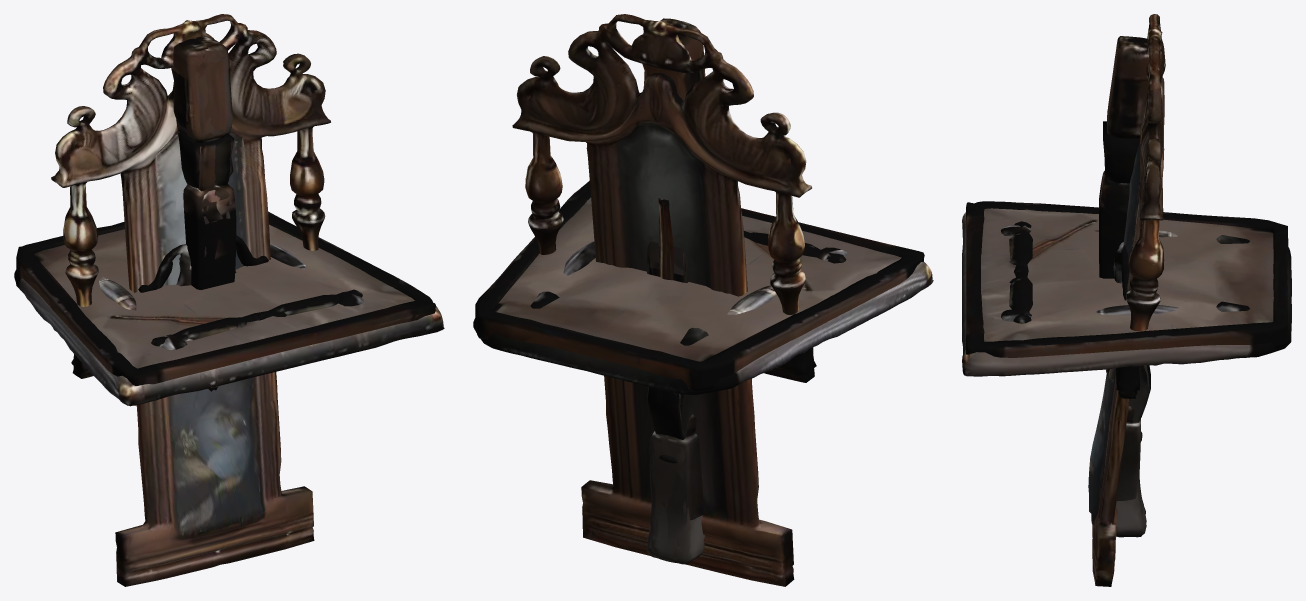
The picture shows the model from 3 angles, left to right: view 1: azimuth 30°, elevation 25°; view 2: azimuth 150°, elevation 25°; view 3: azimuth 270°, elevation 25°; orthographic projection. The views are drawn at different scales.
Visible parts, largest first — view 1: root.0, root.1, root.4, root.2, root.3, root.6, root.9, root.5, root.8, root.7; view 2: root.0, root.1, root.4, root.2, root.3, root.9, root.8, root.6, root.5, root.7, root.10, root.11; view 3: root.1, root.0, root.4, root.3, root.7, root.9, root.6, root.2, root.5.
Part boxes in pixels (x1,y1,x2,y2): root.0: (51, 14, 330, 586); root.1: (14, 224, 444, 406); root.4: (16, 211, 435, 385); root.2: (171, 38, 231, 391); root.3: (193, 36, 236, 390); root.6: (68, 254, 362, 349); root.9: (151, 244, 363, 346); root.5: (71, 235, 268, 378); root.8: (178, 133, 231, 187); root.7: (198, 134, 234, 191); root.0: (512, 14, 811, 586); root.1: (473, 197, 933, 394); root.4: (475, 181, 924, 391); root.2: (645, 20, 705, 562); root.3: (642, 18, 705, 564); root.9: (530, 231, 846, 308); root.8: (647, 254, 692, 462); root.6: (680, 232, 847, 345); root.5: (764, 347, 816, 382); root.7: (647, 259, 688, 463); root.10: (659, 199, 674, 279); root.11: (658, 198, 674, 280); root.1: (962, 208, 1291, 376); root.0: (1088, 14, 1165, 586); root.4: (966, 201, 1288, 357); root.3: (1099, 41, 1148, 530); root.7: (1103, 125, 1150, 437); root.9: (1001, 221, 1249, 321); root.6: (1001, 225, 1249, 323); root.2: (1099, 36, 1147, 537); root.5: (1113, 242, 1139, 398).
Bounding box in the file's own units: 14547 × 22709 × 13240.
1 material, 1 textured.
